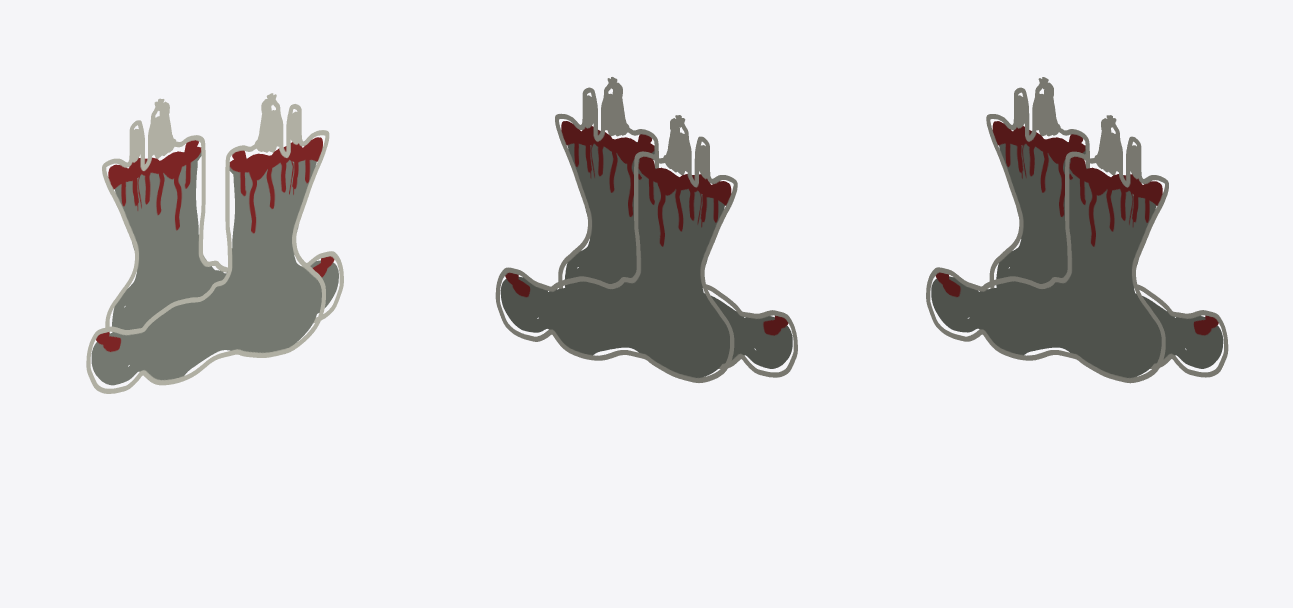
The model's file is prodpin-fuss.fbx.
3 views of the same model, side by side, from view 1: azimuth 30°, elevation 25°; view 2: azimuth 150°, elevation 25°; view 3: azimuth 330°, elevation 25° (orthographic).
Visible parts, largest first — view 1: ProdPIn; view 2: ProdPIn; view 3: ProdPIn.
Part boxes in pixels (box(x1,y1,x2,y2)): ProdPIn: box(86, 93, 343, 393); ProdPIn: box(495, 77, 797, 382); ProdPIn: box(926, 77, 1228, 383).
Size of the model in its own units: 200 by 268 by 20.35.
1 material, 1 textured.
